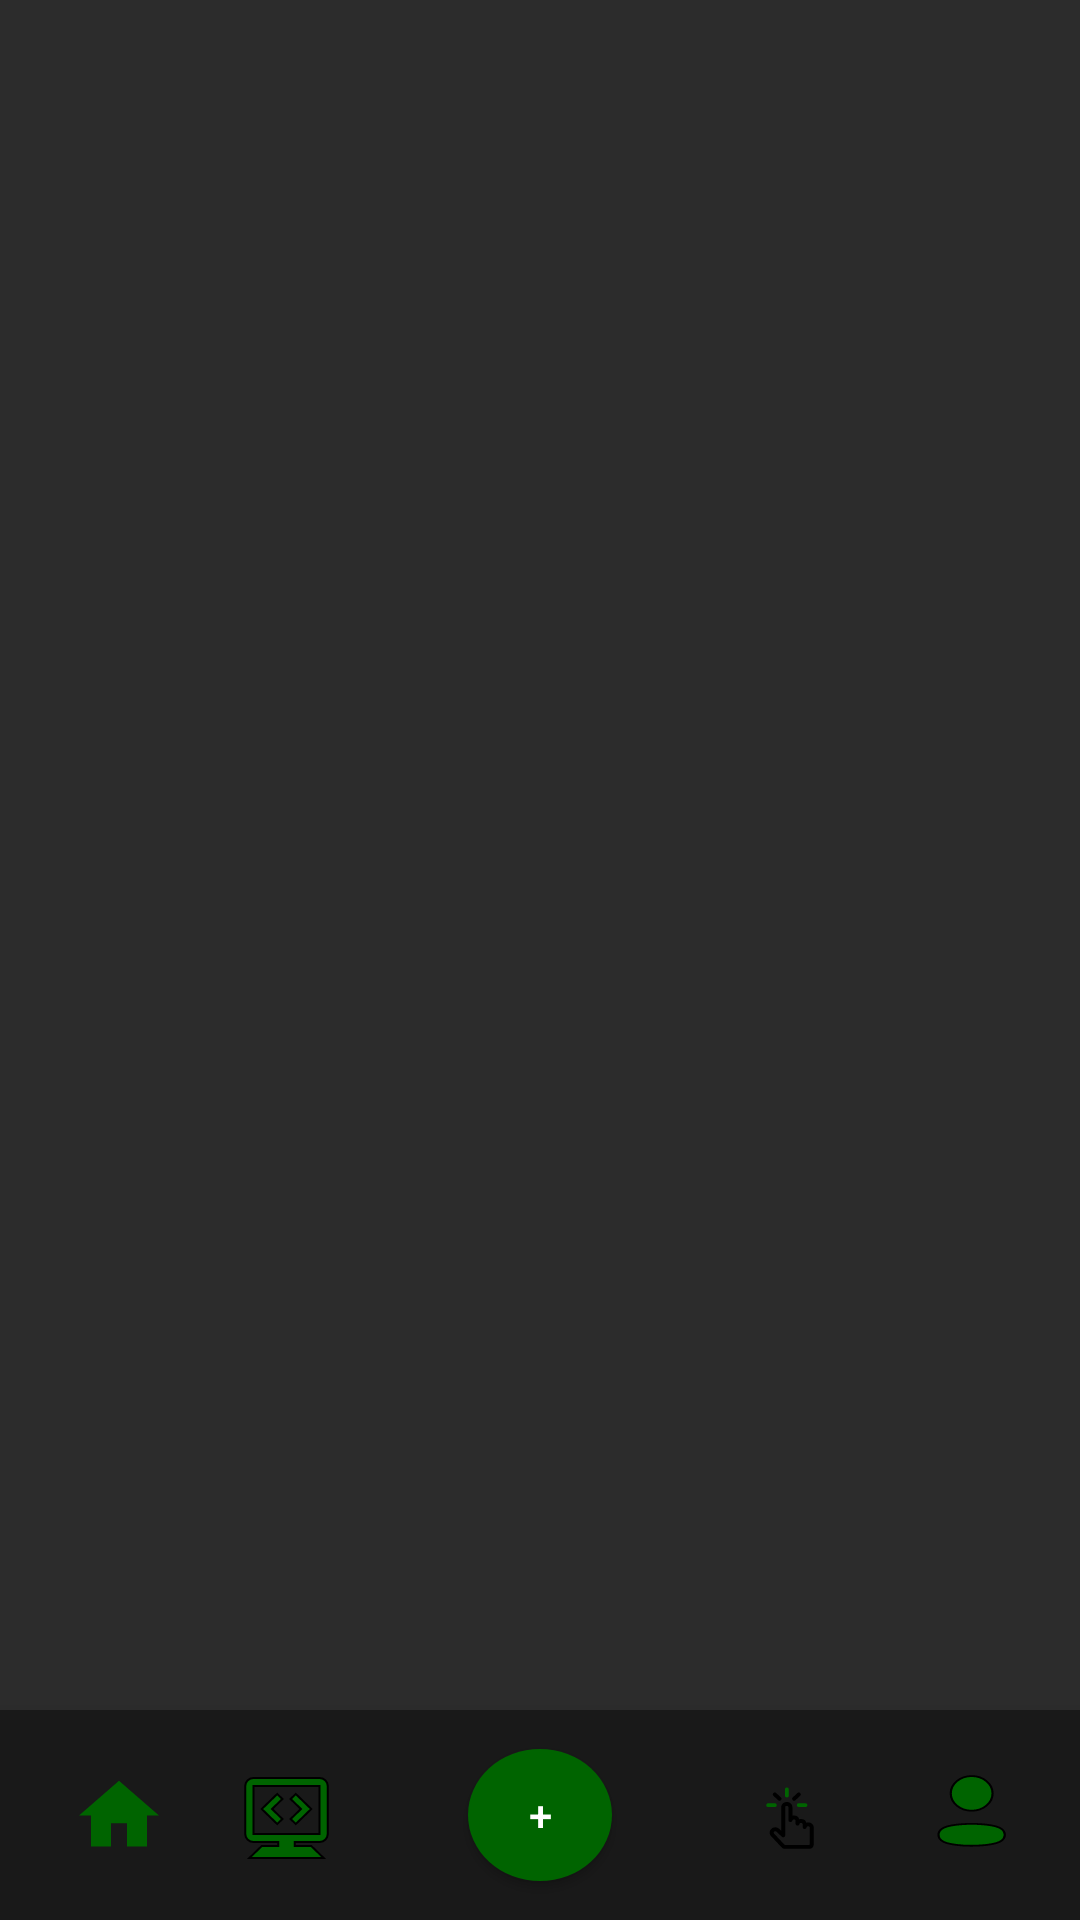

Icon bounding boxes for this 1080 × 1920 phone screenshot, format (x1, y1, x2, y2):
coding: (245, 1777, 328, 1859)
home: (79, 1781, 159, 1847)
profile: (938, 1776, 1005, 1846)
